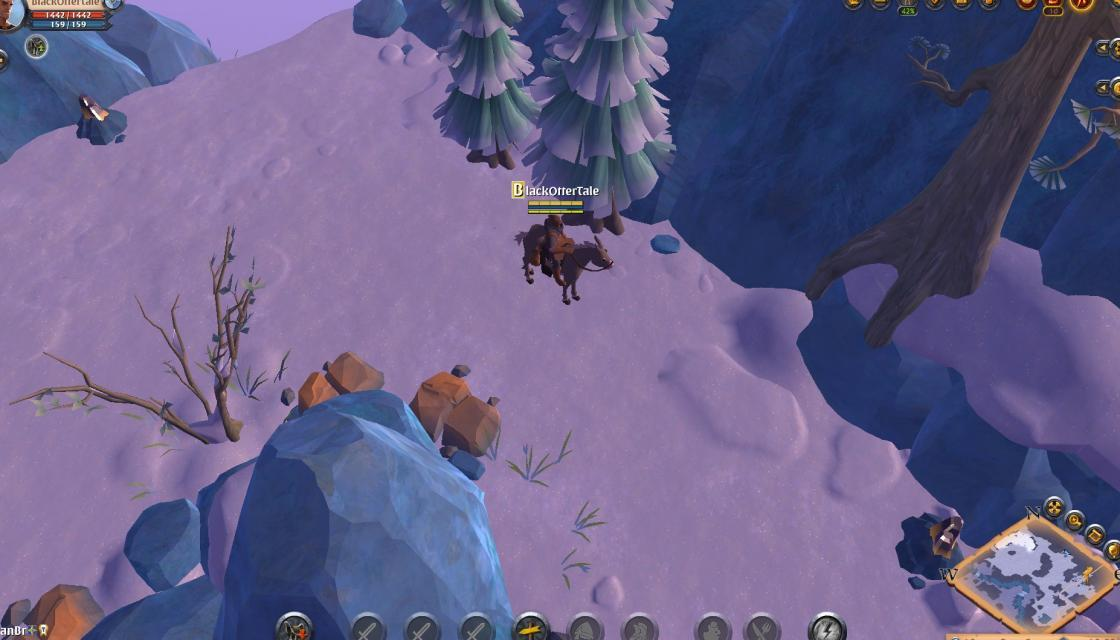copperore: (890, 504, 970, 572), (70, 94, 136, 144)
limestone: (404, 366, 506, 474), (0, 581, 109, 640), (292, 348, 386, 408)
